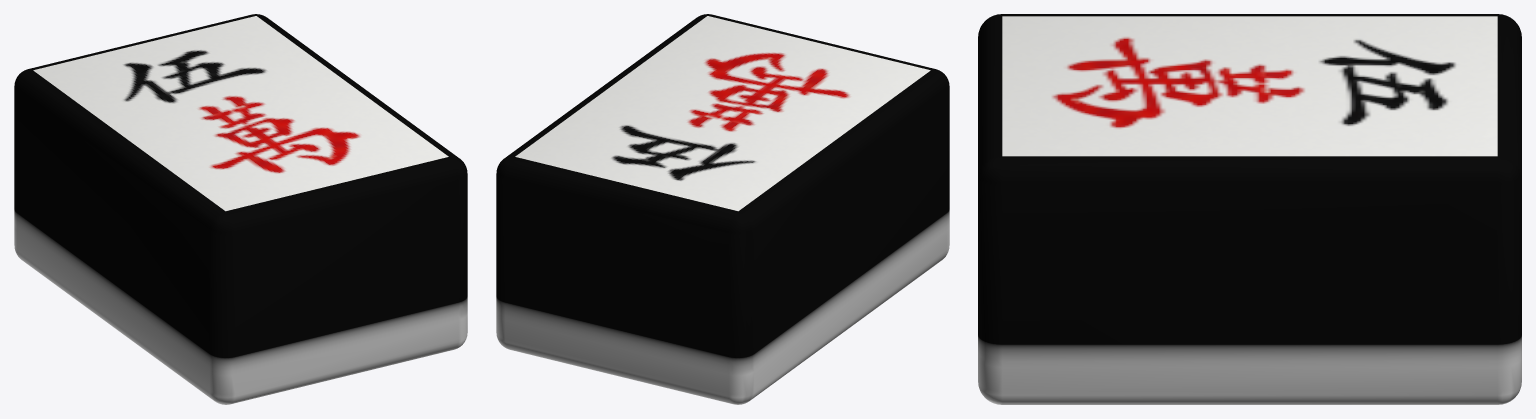
File: mahjong_tile.glb
3 views of the same model, side by side, from view 1: azimuth 30°, elevation 25°; view 2: azimuth 150°, elevation 25°; view 3: azimuth 270°, elevation 25° (orthographic). The views are drawn at different scales.
Visible parts, largest first — view 1: TileBody, TileFace; view 2: TileBody, TileFace; view 3: TileBody, TileFace.
Part boxes in pixels (bbox=[...]): TileBody: bbox=[14, 14, 467, 404]; TileFace: bbox=[33, 16, 448, 211]; TileBody: bbox=[496, 14, 949, 404]; TileFace: bbox=[515, 16, 930, 211]; TileBody: bbox=[978, 14, 1521, 404]; TileFace: bbox=[1002, 16, 1497, 156].
Bounding box in the file's own units: 0.039 × 0.028 × 0.056.
Materials: 2 (1 with a texture image).
